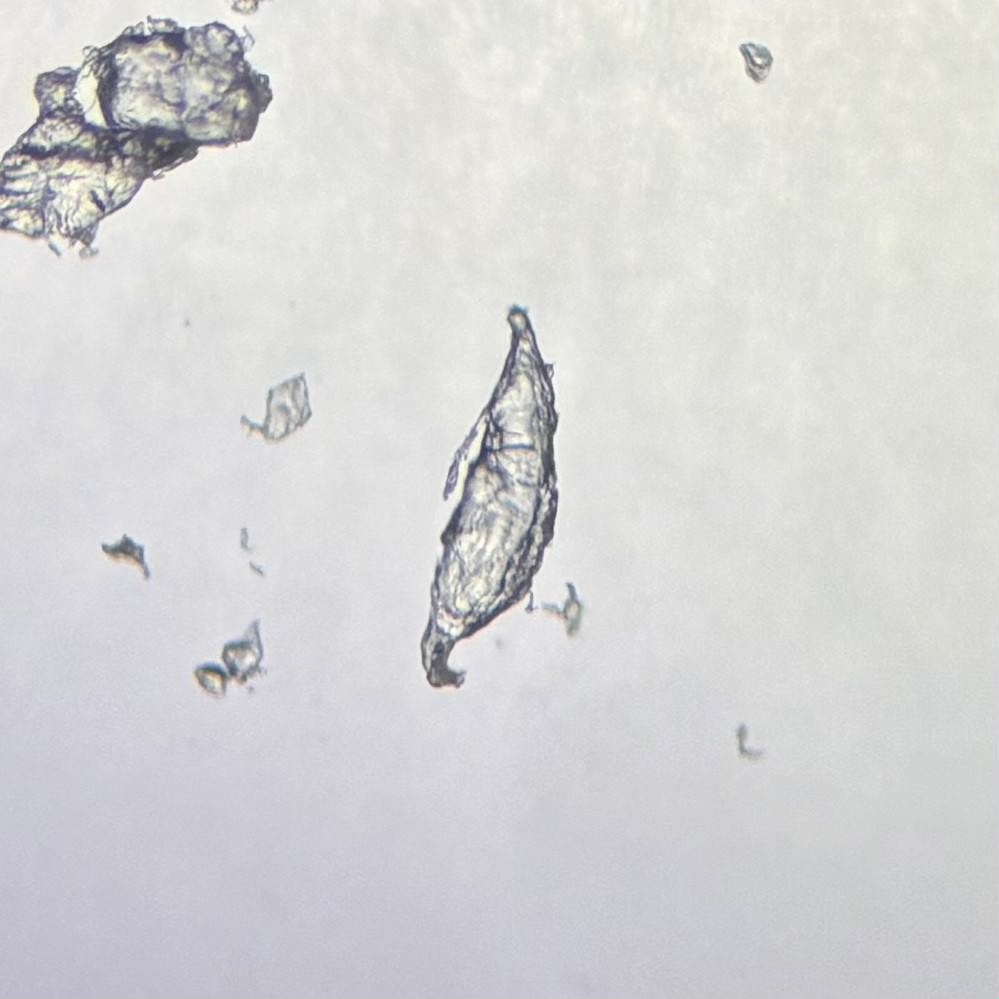microplastic: (1, 16, 272, 259), (421, 305, 583, 690), (192, 621, 268, 702), (238, 372, 312, 440), (99, 534, 150, 581), (237, 527, 270, 574), (739, 43, 772, 83), (735, 721, 765, 762), (225, 1, 266, 14)
